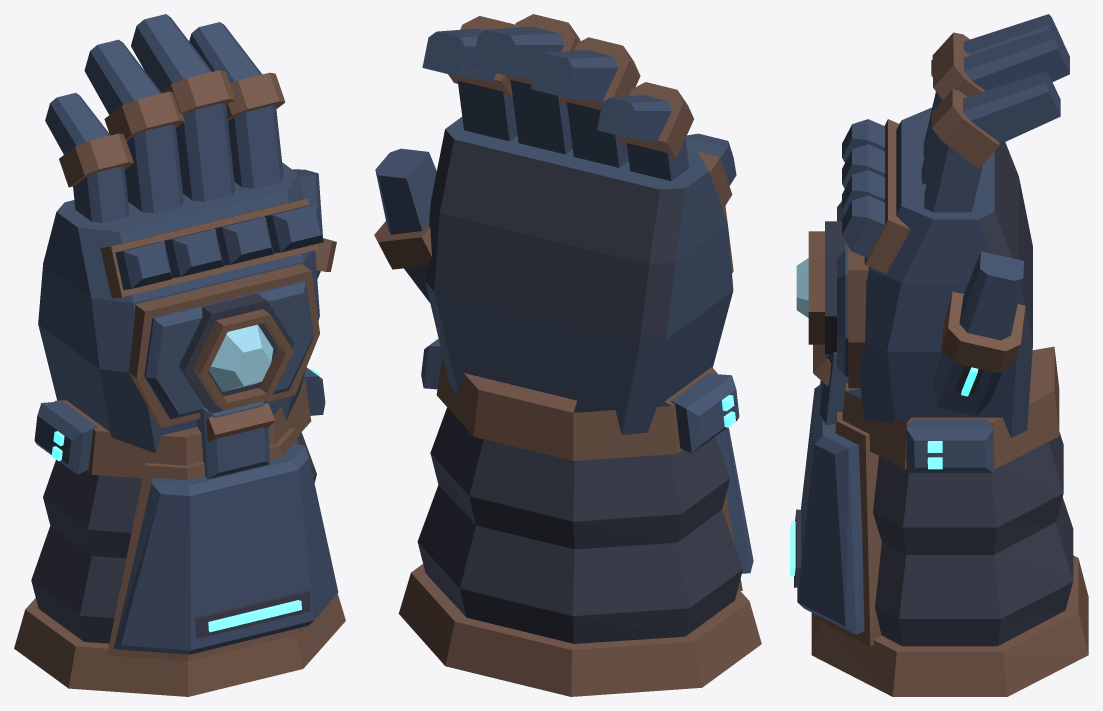
Rendered from power-gauntlet-768a8b.glb.
3 views of the same model, side by side, from view 1: azimuth 30°, elevation 25°; view 2: azimuth 150°, elevation 25°; view 3: azimuth 270°, elevation 25° (orthographic). The views are drawn at different scales.
Parts seen in each view (by area): view 1: body-metal, finger-middle-metal, finger-ring-metal, finger-index-metal, finger-pinky-metal, crystal-crystal, body-glow, thumb-metal; view 2: body-metal, finger-ring-metal, finger-middle-metal, finger-pinky-metal, thumb-metal, finger-index-metal; view 3: body-metal, thumb-metal, finger-index-metal, finger-middle-metal, finger-ring-metal, body-glow, crystal-crystal.
Part boxes in pixels (x1,y1,x2,y2): body-metal: (14,162,345,696); finger-middle-metal: (131,14,235,201); finger-ring-metal: (84,39,184,213); finger-index-metal: (189,22,285,188); finger-pinky-metal: (45,93,133,223); crystal-crystal: (209,324,273,391); body-glow: (51,369,319,632); thumb-metal: (292,169,336,278); body-metal: (398,117,761,696); finger-ring-metal: (530,37,640,167); finger-middle-metal: (472,14,580,154); finger-pinky-metal: (597,82,693,180); thumb-metal: (374,148,436,302); finger-index-metal: (422,16,517,141); body-metal: (794,107,1088,696); thumb-metal: (933,251,1025,415); finger-index-metal: (924,71,1060,212); finger-middle-metal: (921,28,1069,184); finger-ring-metal: (923,14,1062,157); body-glow: (790,441,942,576); crystal-crystal: (796,258,808,317).
Size of the model in its own units: 0.1803 by 0.3296 by 0.1472.
